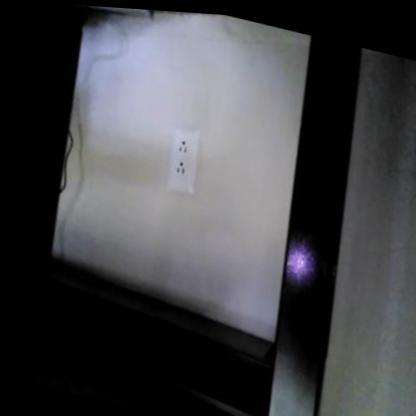OUTLET: (159, 123, 206, 199)
